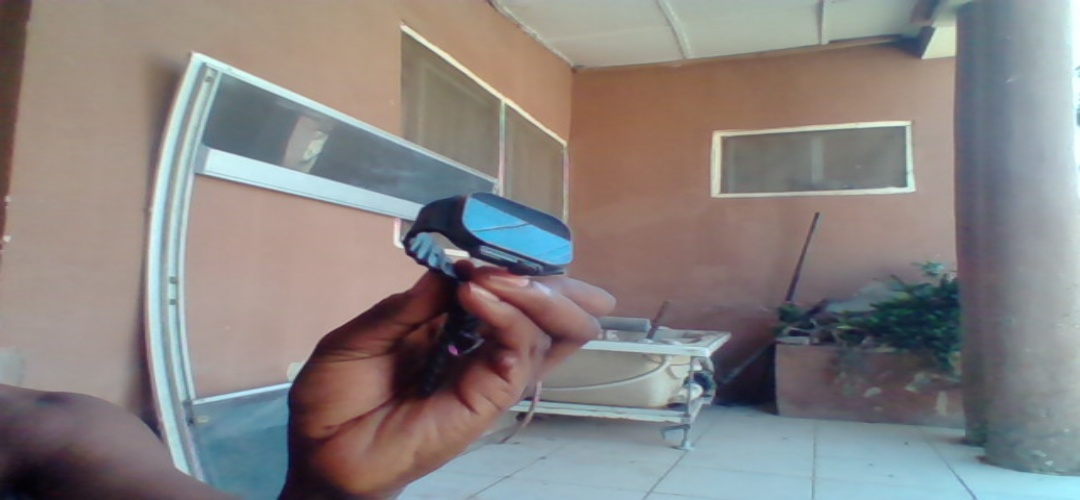smart_watch: (401, 190, 585, 280)
